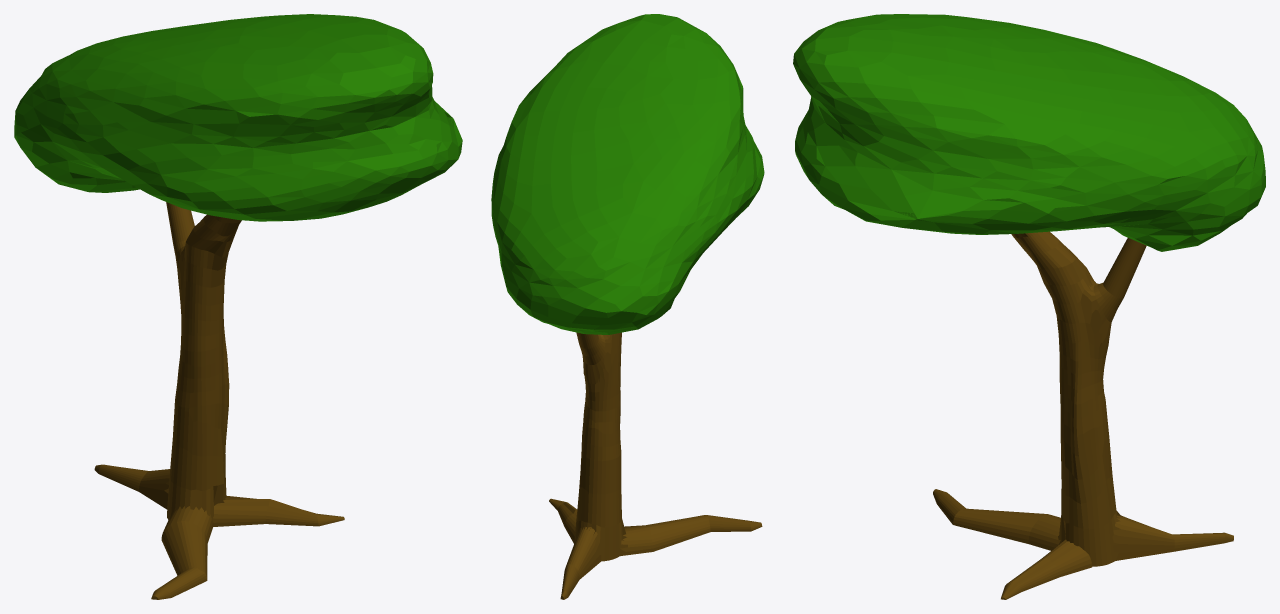
Rendered from tree.fbx.
3 views of the same model, side by side, from view 1: azimuth 30°, elevation 25°; view 2: azimuth 150°, elevation 25°; view 3: azimuth 270°, elevation 25° (orthographic). The views are drawn at different scales.
Visible parts, largest first — view 1: Icosphere.001, Cylinder; view 2: Icosphere.001, Cylinder; view 3: Icosphere.001, Cylinder.
Part boxes in pixels (x1,y1,x2,y2): Icosphere.001: (14, 14, 462, 221); Cylinder: (94, 202, 344, 599); Icosphere.001: (491, 14, 764, 334); Cylinder: (549, 332, 762, 599); Icosphere.001: (793, 14, 1265, 251); Cylinder: (933, 231, 1233, 599).
Bounding box in the file's own units: 1046 × 1792 × 1424.
